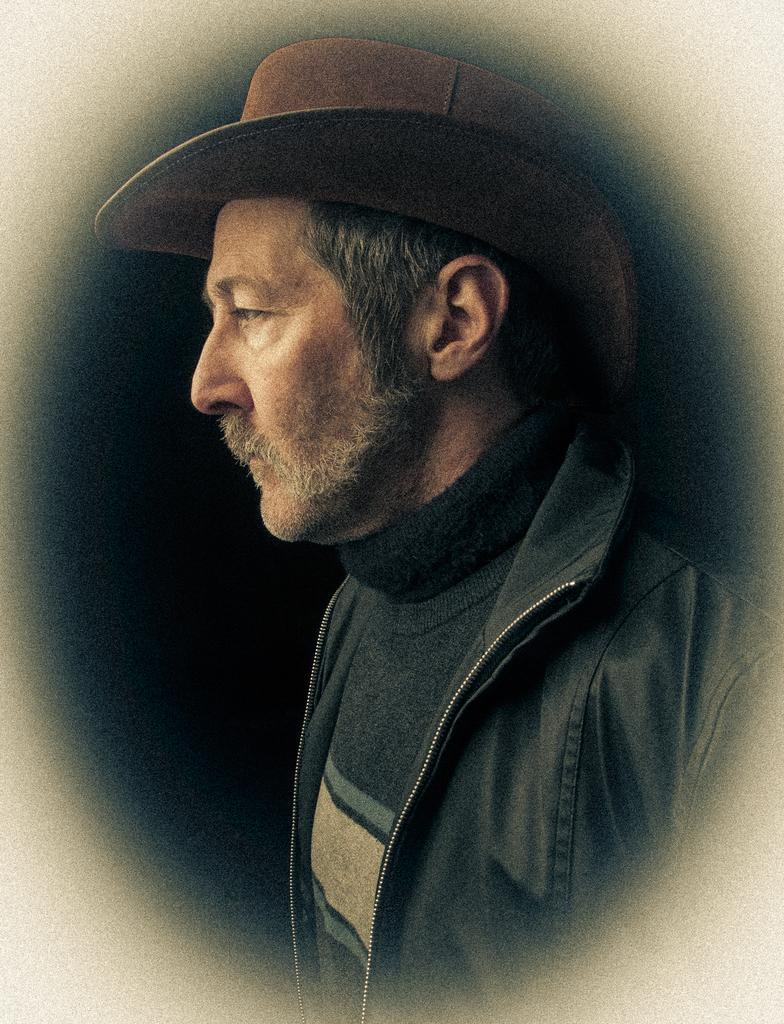Hat: (97, 34, 652, 374)
